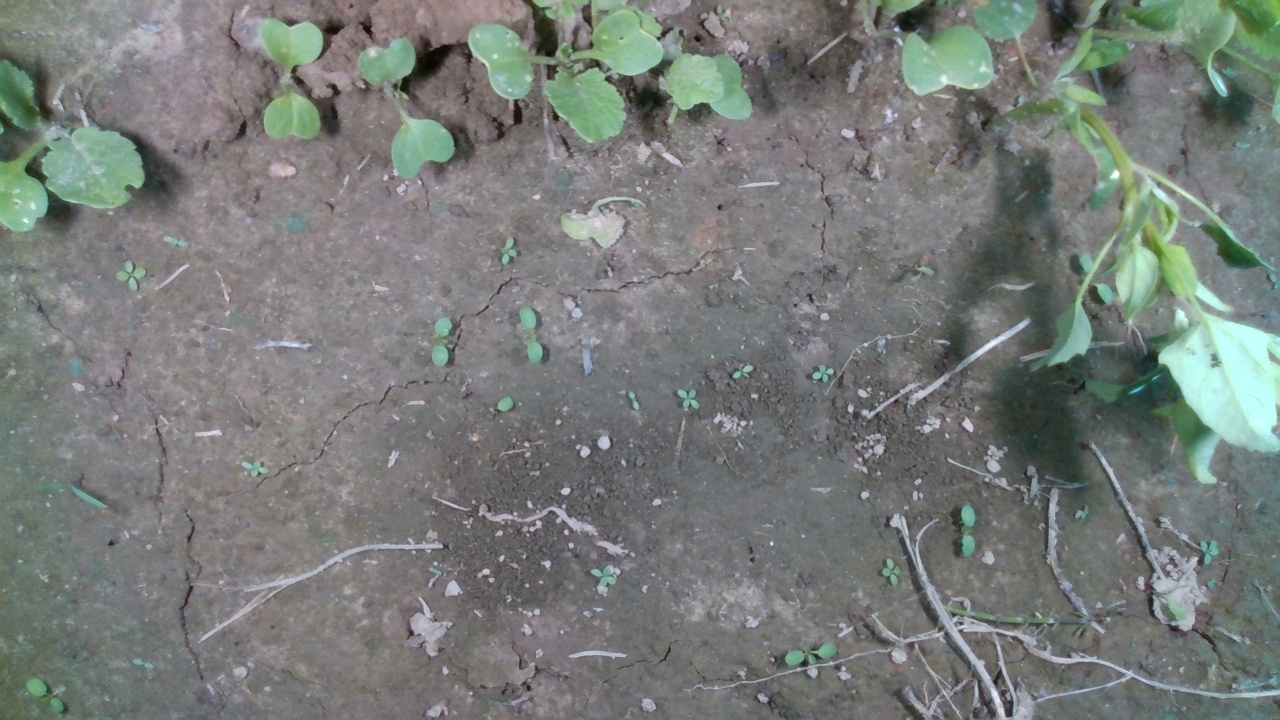weed: (517, 306, 544, 367), (23, 676, 65, 715), (781, 642, 837, 668), (113, 257, 146, 291), (432, 315, 452, 367), (959, 503, 976, 559), (498, 235, 519, 266), (879, 557, 901, 586), (675, 386, 701, 410), (590, 565, 617, 588), (1199, 537, 1220, 566), (811, 362, 834, 383), (160, 235, 191, 248), (731, 363, 755, 379), (626, 389, 641, 411)
